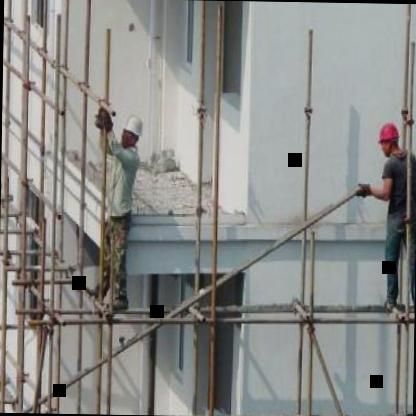helmet: (116, 110, 146, 151), (376, 120, 402, 156)
